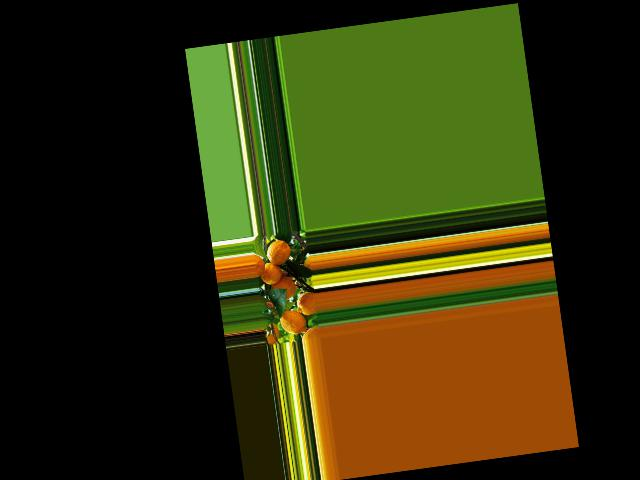lemon: (262, 236, 290, 268)
